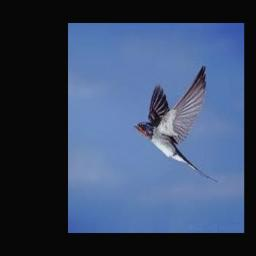Swallow: (135, 65, 218, 182)
